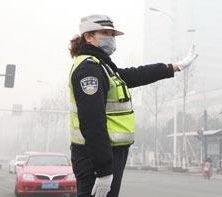person: (68, 12, 199, 197)
